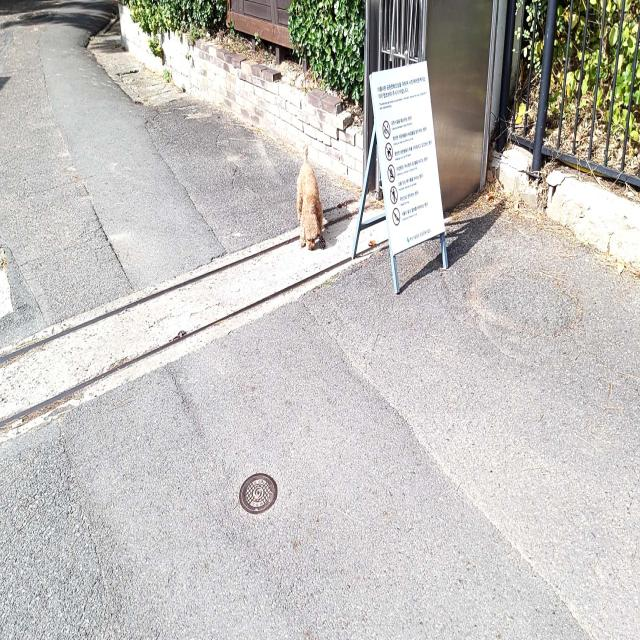Dog: (296, 146, 326, 250)
